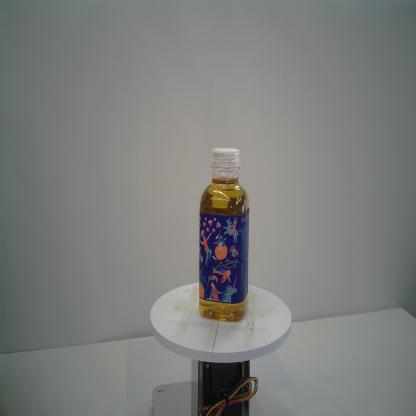Drink: (198, 147, 250, 323)
